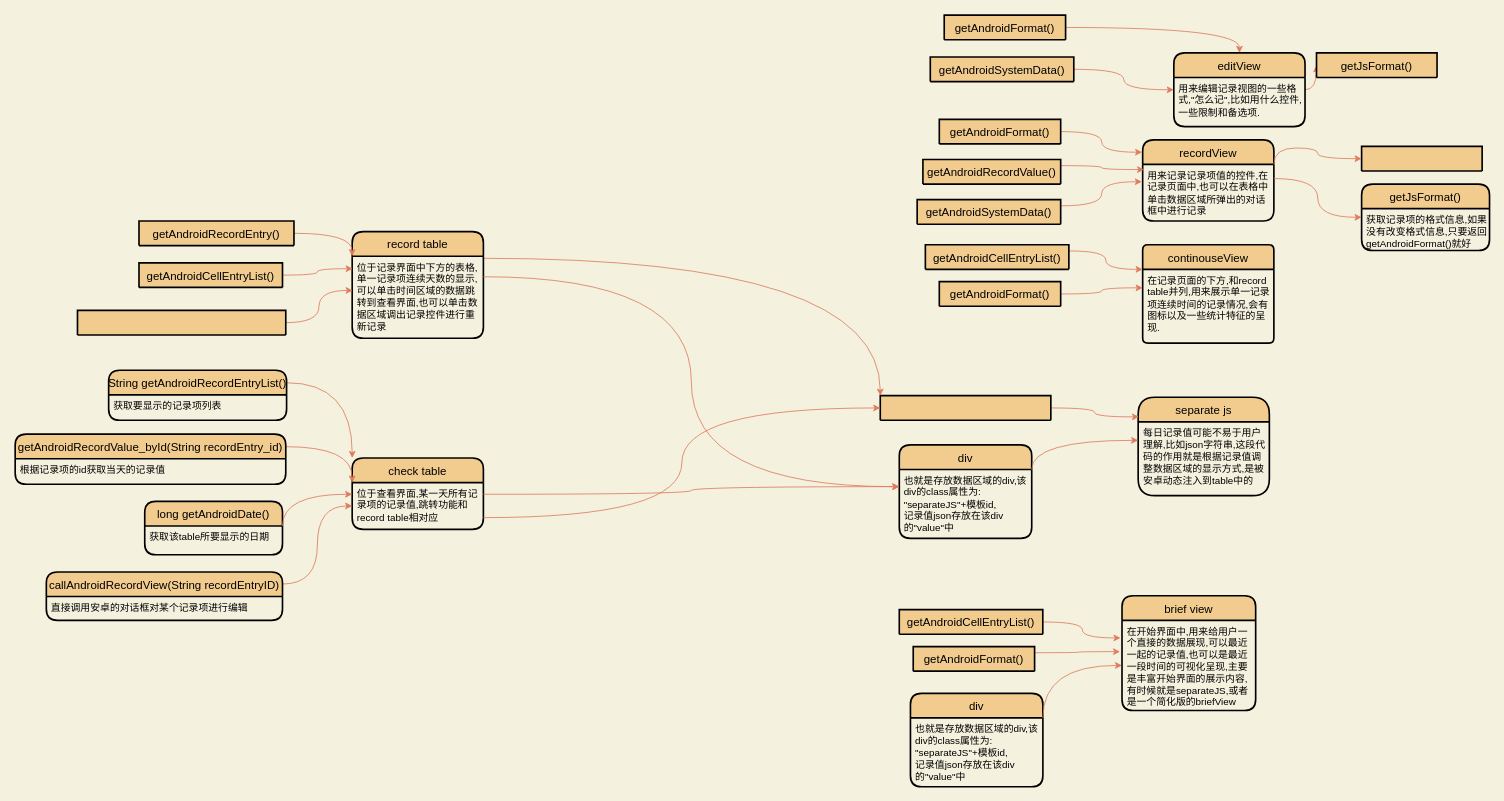
Image size: 1504x801. Some labels were removed from this diagram. The centre of each missing label's shape, as x and y in pixels:
"callAndroidRecordView(long date)" belongs at (x=181, y=322).
"getFormat(String template_id)" belongs at (x=965, y=407).
"getJSRecordView()" belongs at (x=1421, y=158).
